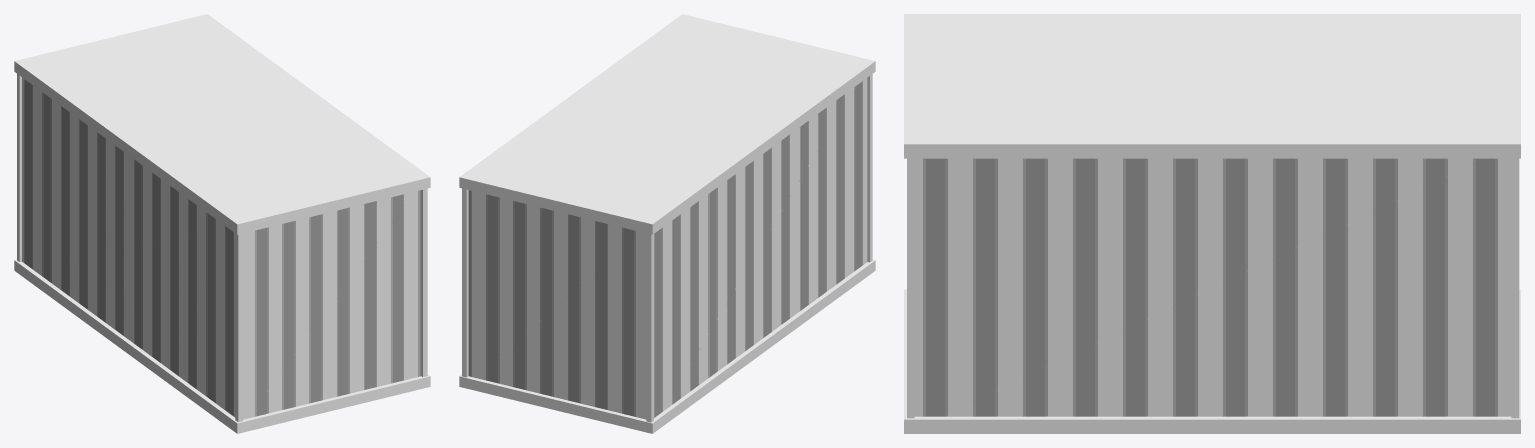
File: konntena.obj
3 views of the same model, side by side, from view 1: azimuth 30°, elevation 25°; view 2: azimuth 150°, elevation 25°; view 3: azimuth 270°, elevation 25° (orthographic). The views are drawn at different scales.
Parts seen in each view (by area): view 1: pCube1, pCube3, pCube2, pCube4, pCube5, pCube6; view 2: pCube1, pCube3, pCube2, pCube6, pCube7, pCube4; view 3: pCube1, pCube3, pCube2, pCube7, pCube5.
Part boxes in pixels (x1,y1,x2,y2): pCube1: [22, 77, 421, 419]; pCube3: [14, 14, 430, 234]; pCube2: [14, 259, 430, 433]; pCube4: [235, 233, 242, 422]; pCube5: [421, 188, 427, 376]; pCube6: [17, 74, 21, 261]; pCube1: [468, 78, 867, 419]; pCube3: [459, 14, 875, 234]; pCube2: [459, 259, 875, 433]; pCube6: [646, 233, 653, 422]; pCube7: [462, 188, 468, 377]; pCube4: [867, 74, 872, 262]; pCube1: [914, 158, 1511, 416]; pCube3: [904, 14, 1520, 158]; pCube2: [904, 289, 1520, 433]; pCube7: [1511, 158, 1519, 418]; pCube5: [907, 158, 914, 418].
Size of the model in its own units: 4 by 4.15 by 8.
2 materials, 2 textured.
